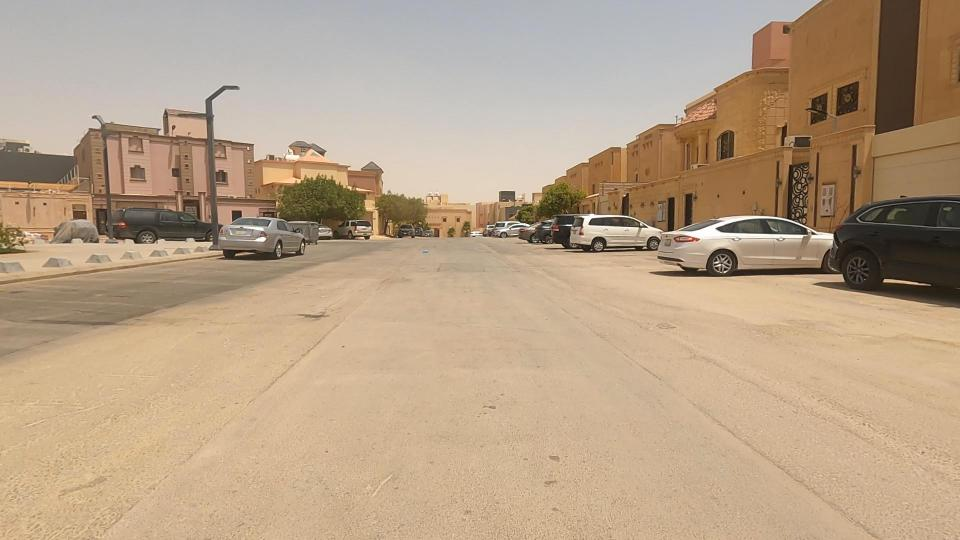GARBAGE: (408, 234, 440, 270)
